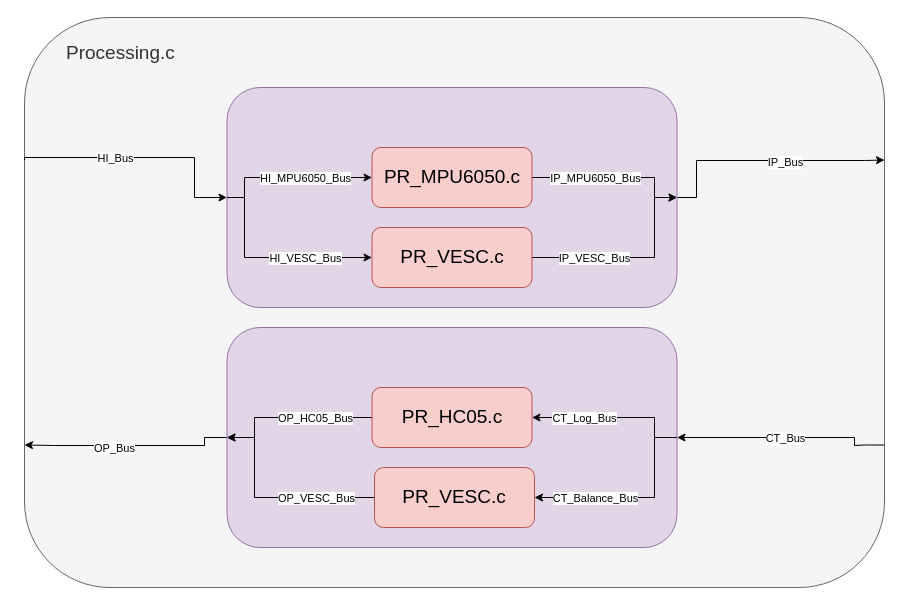
Image size: 910x605. Some labels were removed from this diagram. Each missing label, with the box of its shape:
PR_InputProcessing(): (226, 86, 677, 308)
PR_OutputProcessing(): (226, 326, 677, 548)
